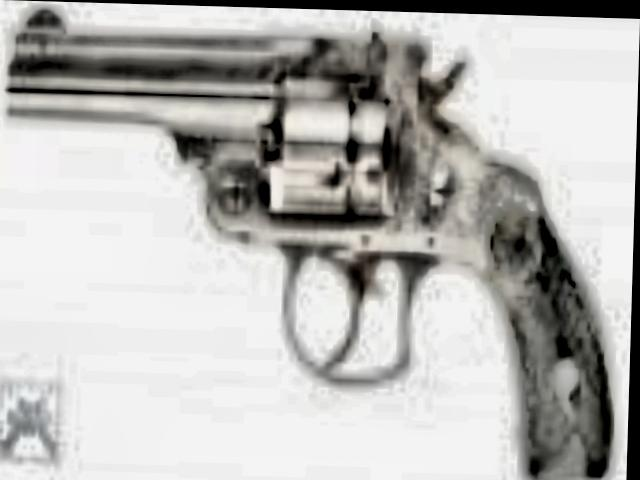pistol: (1, 4, 620, 474)
